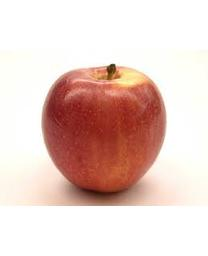apple: (40, 63, 167, 192)
